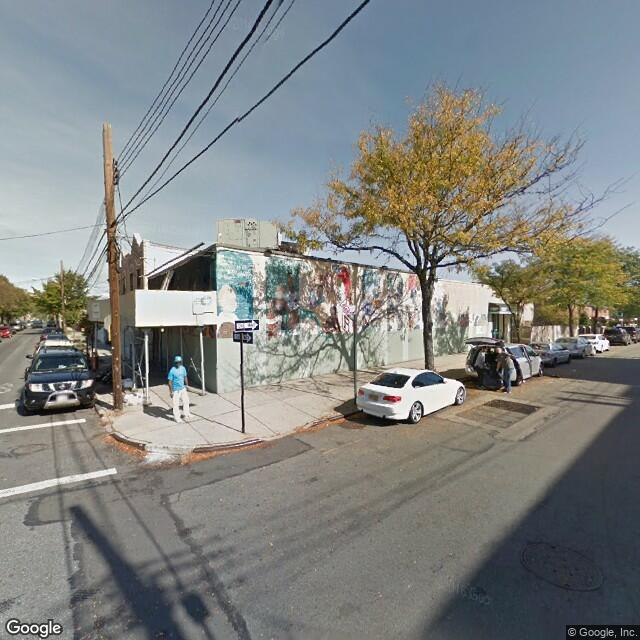litter: (533, 404, 542, 413), (551, 373, 562, 379)
